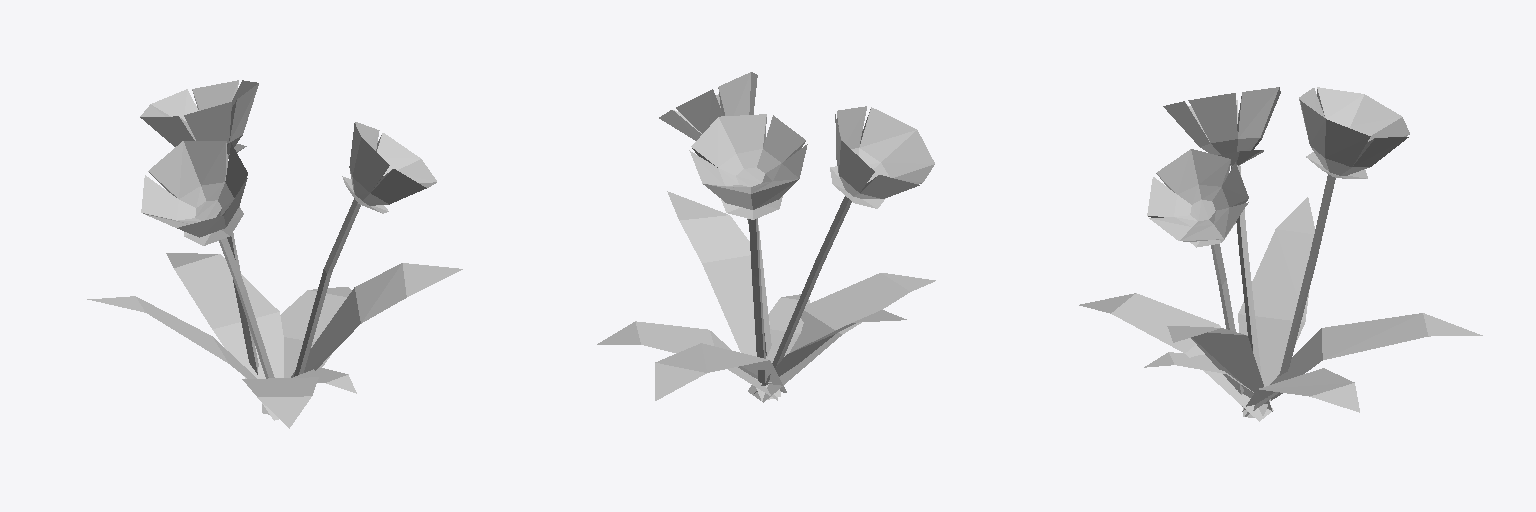
Rendered from carnations_red.obj.
The picture shows the model from 3 angles: view 1: azimuth 30°, elevation 25°; view 2: azimuth 150°, elevation 25°; view 3: azimuth 270°, elevation 25°; orthographic projection.
Visible parts, largest first — view 1: carnations; view 2: carnations; view 3: carnations.
Part boxes in pixels (x1,y1,x2,y2): carnations: (87, 80, 462, 428); carnations: (597, 72, 935, 402); carnations: (1079, 87, 1482, 421).
Bounding box in the file's own units: 0.7997 × 0.749 × 0.9086.